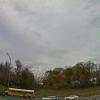Bus: (6, 84, 37, 100)
